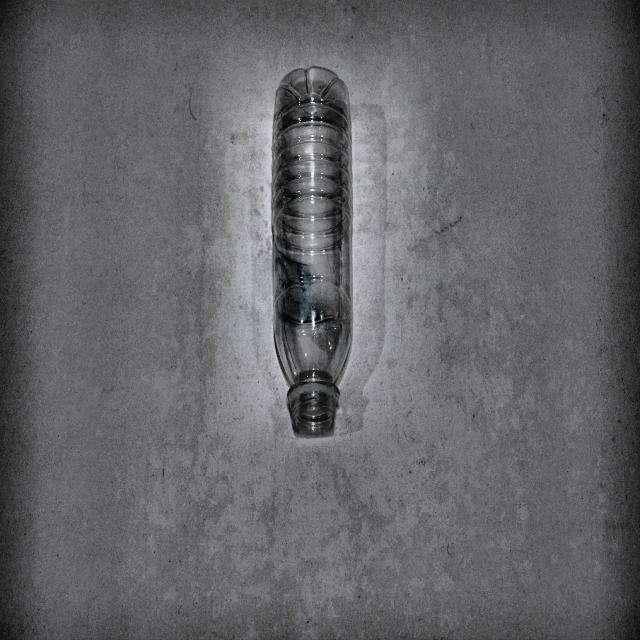Bottles: (268, 63, 358, 448)
